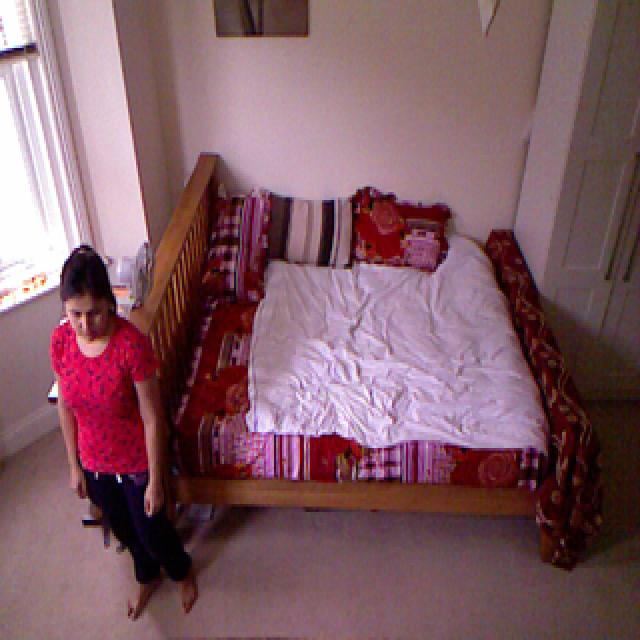standing: (42, 242, 208, 624)
